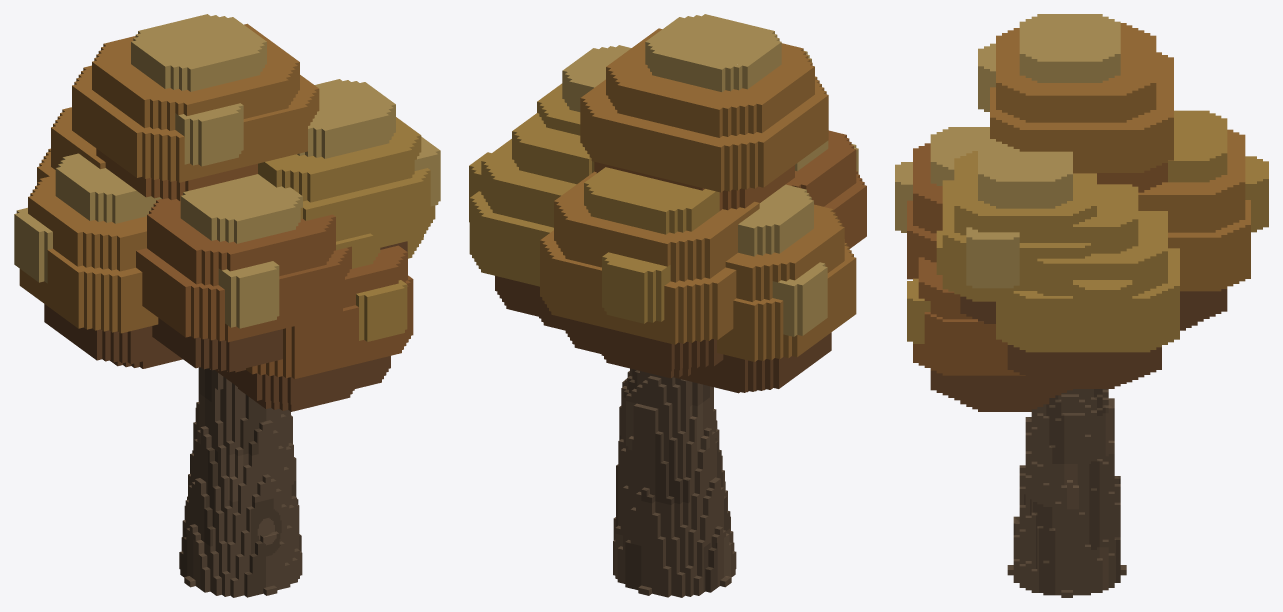
The model's file is oak_ancient_autumn_3.glb.
3 views of the same model, side by side, from view 1: azimuth 30°, elevation 25°; view 2: azimuth 150°, elevation 25°; view 3: azimuth 270°, elevation 25° (orthographic). The views are drawn at different scales.
Visible parts, largest first — view 1: VoxelVisual; view 2: VoxelVisual; view 3: VoxelVisual.
Part boxes in pixels (box(x1,y1,x2,y2)): VoxelVisual: box(14, 14, 440, 597); VoxelVisual: box(469, 14, 866, 597); VoxelVisual: box(895, 14, 1268, 597).
Size of what is drawn, in the model's own units: 16.5 by 24 by 15.75.
